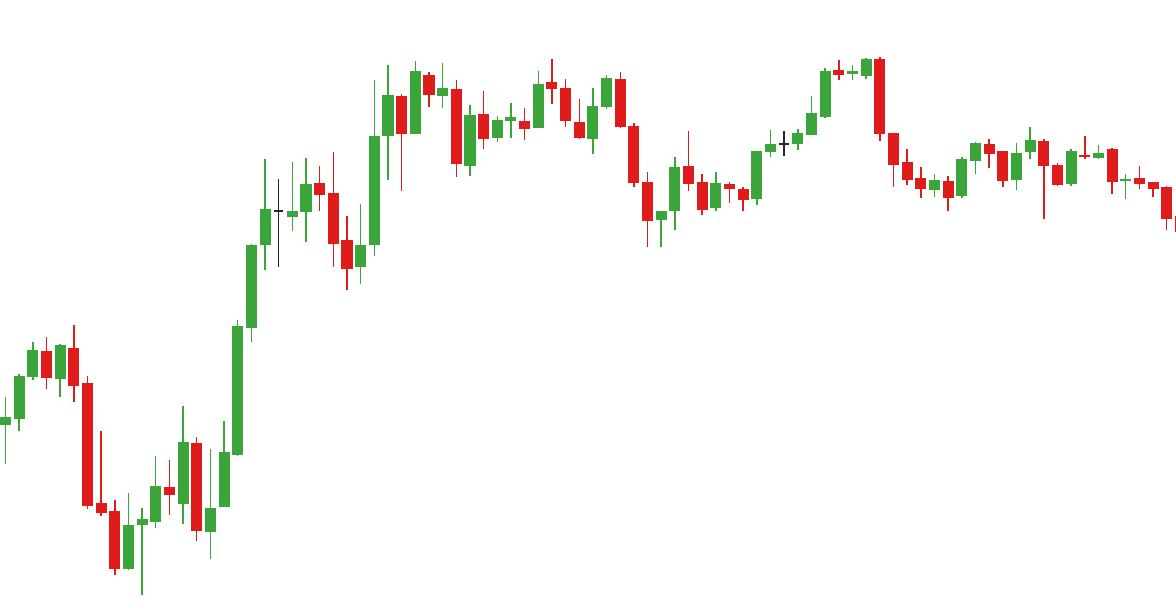sell: (543, 60, 846, 153)
